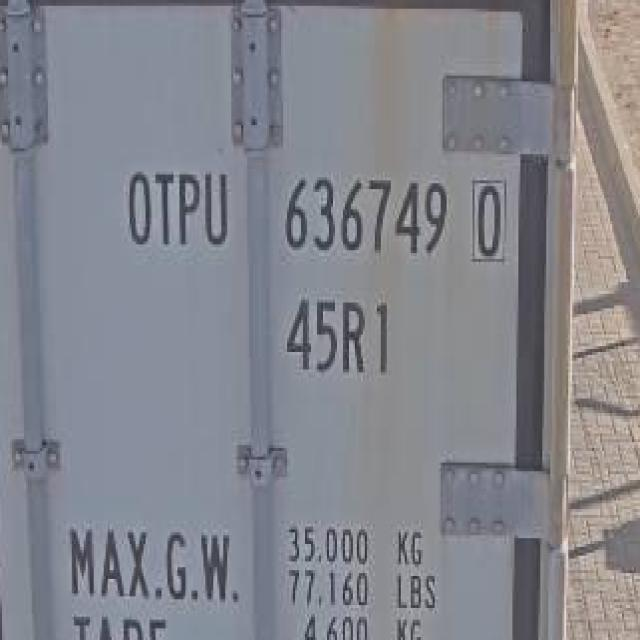dv: (459, 172, 514, 265)
owner: (117, 156, 231, 252)
serial: (274, 162, 448, 263)
size: (279, 284, 401, 380)
